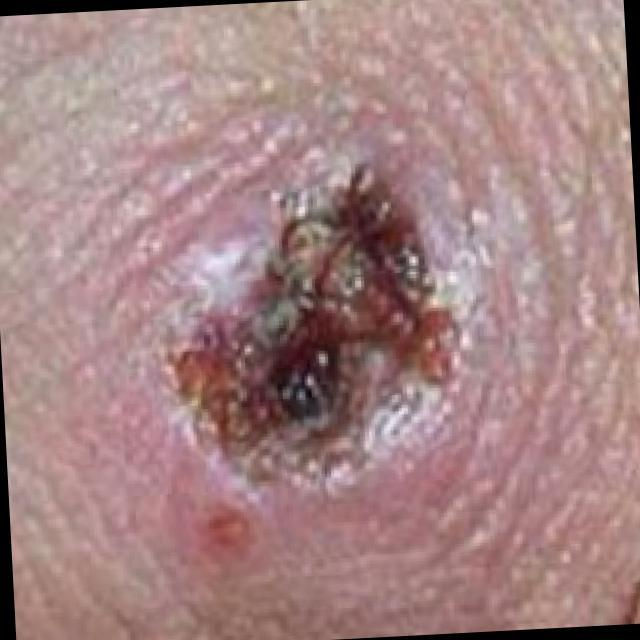Eczema: (195, 149, 460, 479)
